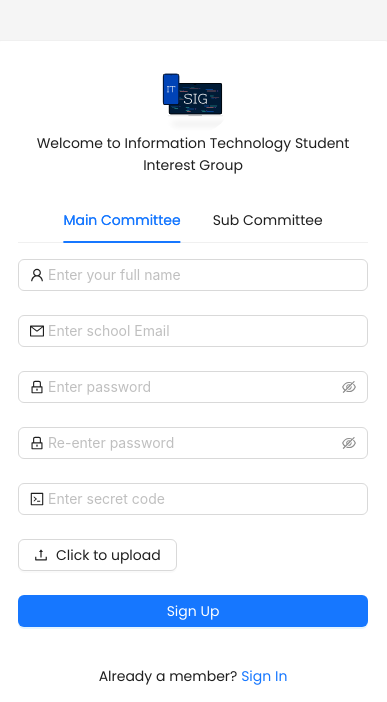
SignUpForm Tests › shows error for incorrect secret code in Main Committee sign-up
This screenshot has width=387, height=702.
Type "Swan Htet Aung" into the field with id "sign-up-main-name" at (202,275), box [48, 264, 356, 286]
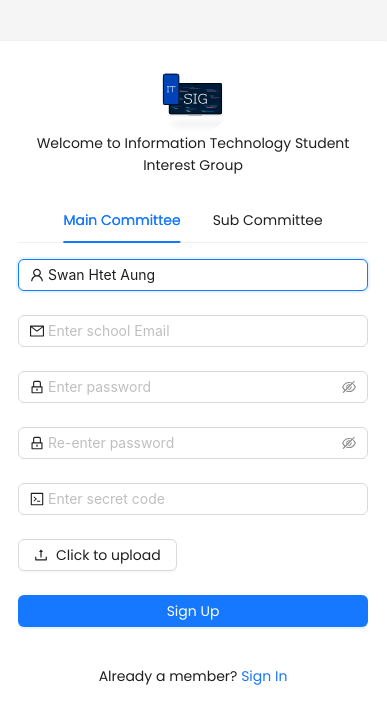
Type "swanhtetaung@gmail.com" into the field with id "sign-up-main-email" at (202,331), box [48, 320, 356, 342]
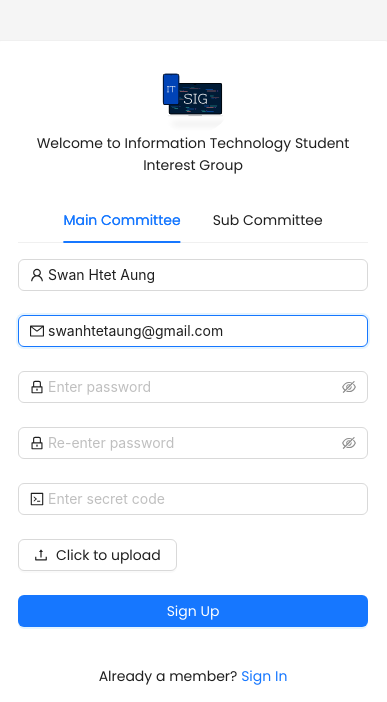
Type "Password123" into the password field with id "sign-up-main-password" at (193,387), box [48, 376, 338, 398]
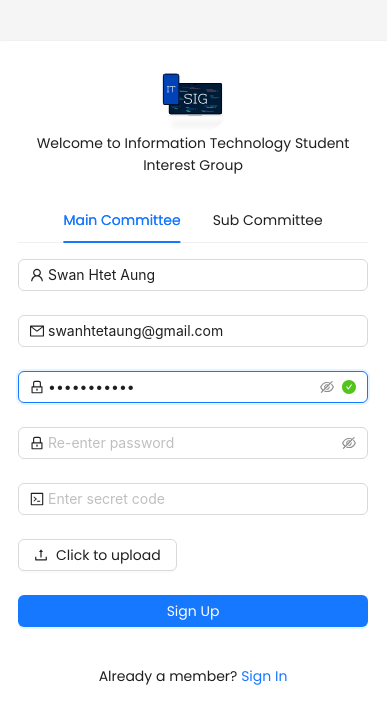
Type "Password123" into the password field with id "sign-up-main-re-password" at (193,443), box [48, 432, 338, 454]
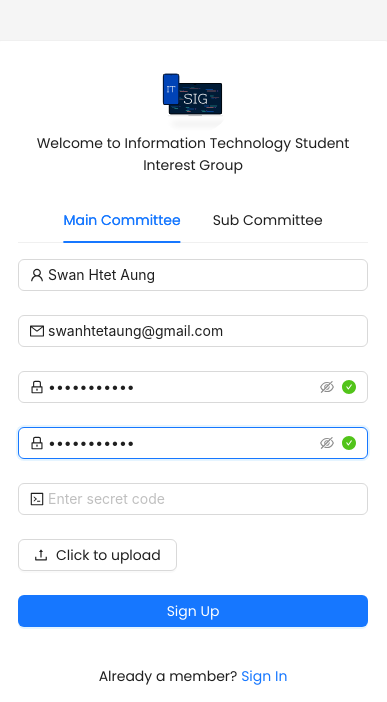
Type "WrongCode" into the field with id "sign-up-main-code" at (202,499), box [48, 488, 356, 510]
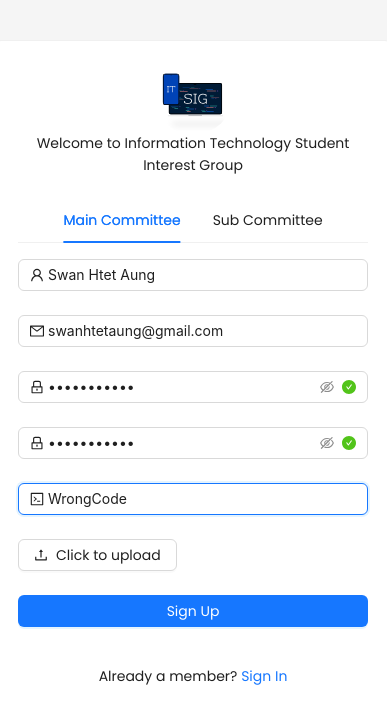
Click the submit button at (193,611), box [18, 595, 368, 627]
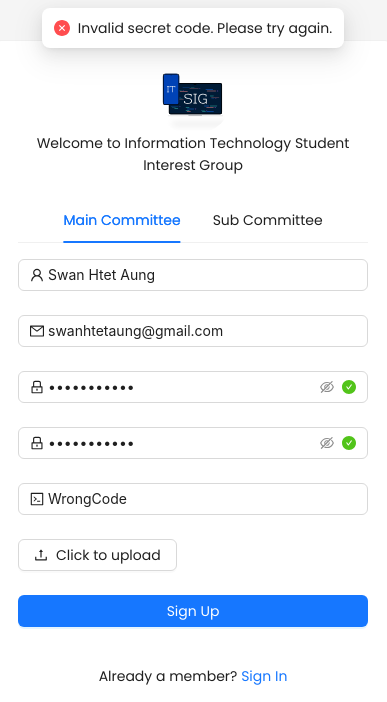
expect the text "Invalid secret code. Please try again." is shown: met, box [78, 17, 332, 39]
